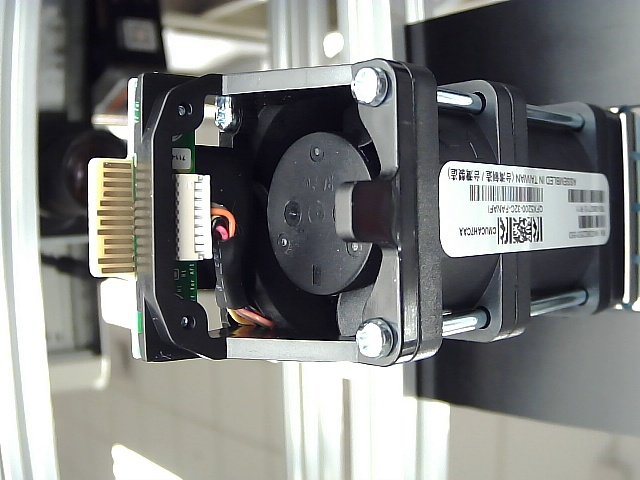8_0: (68, 29, 640, 419)
